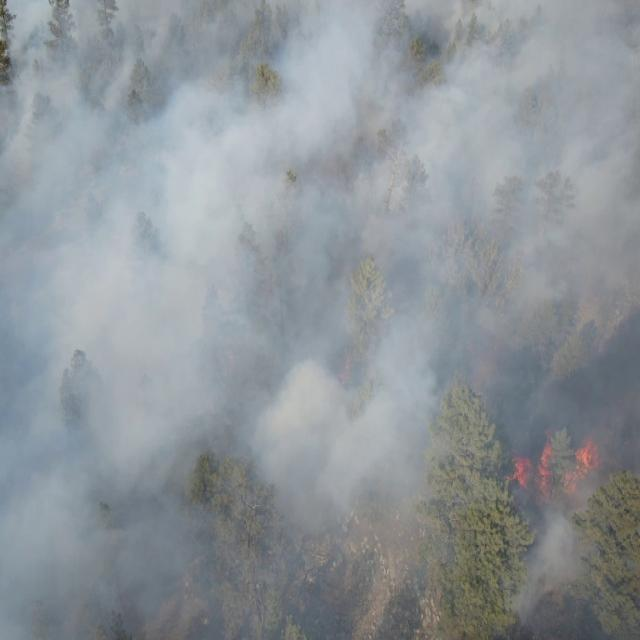fire: (503, 432, 599, 500), (330, 352, 358, 391)
smoke: (0, 0, 640, 640)
